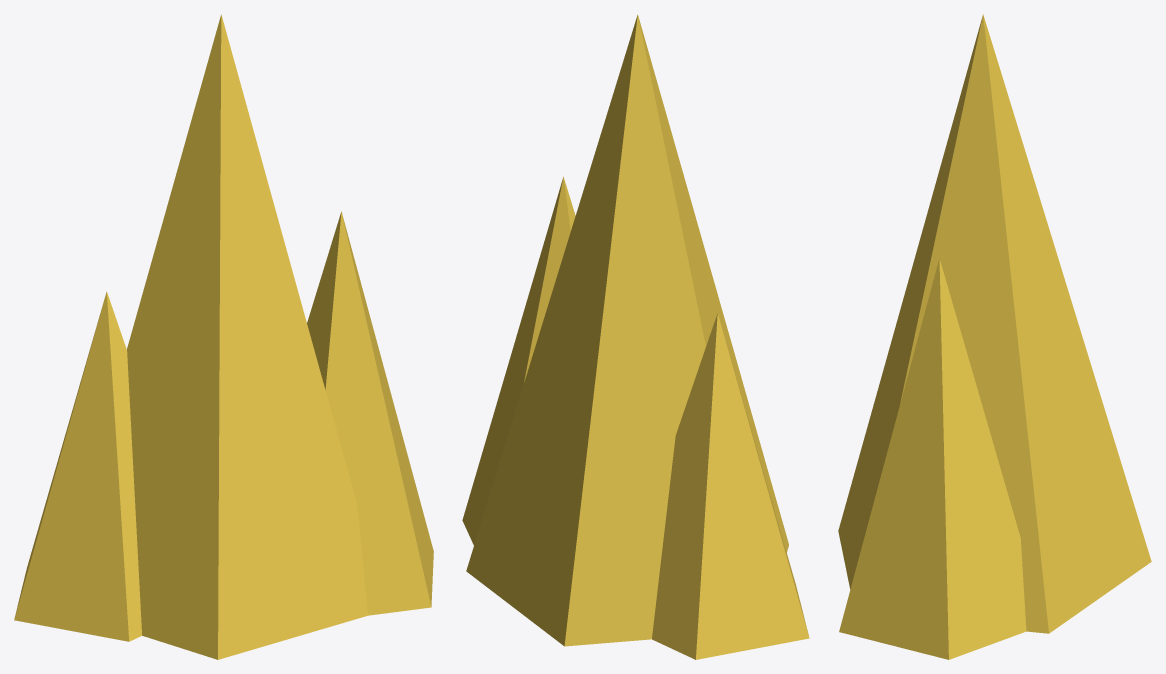
Rendered from flame_inner.fbx.
3 views of the same model, side by side, from view 1: azimuth 30°, elevation 25°; view 2: azimuth 150°, elevation 25°; view 3: azimuth 270°, elevation 25° (orthographic). The views are drawn at different scales.
Parts seen in each view (by area): view 1: FlameInner; view 2: FlameInner; view 3: FlameInner.
Boxes of the visible parts, left/top/right/bottom form: FlameInner: left=14, top=14, right=433, bottom=659; FlameInner: left=462, top=14, right=809, bottom=659; FlameInner: left=838, top=14, right=1151, bottom=659.
Bounding box in the file's own units: 0.3946 × 0.56 × 0.2872.
